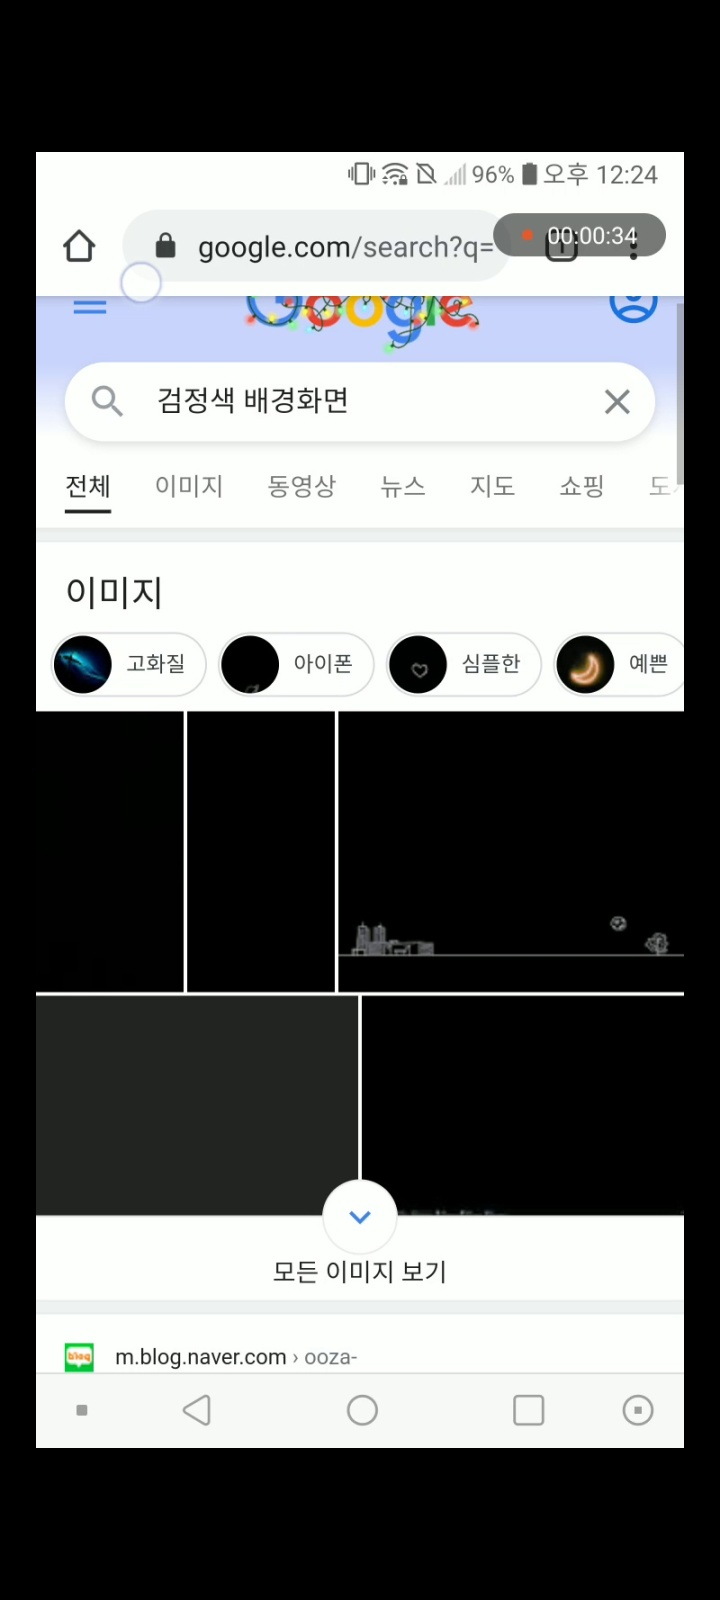Cursor: (120, 260, 165, 305)
